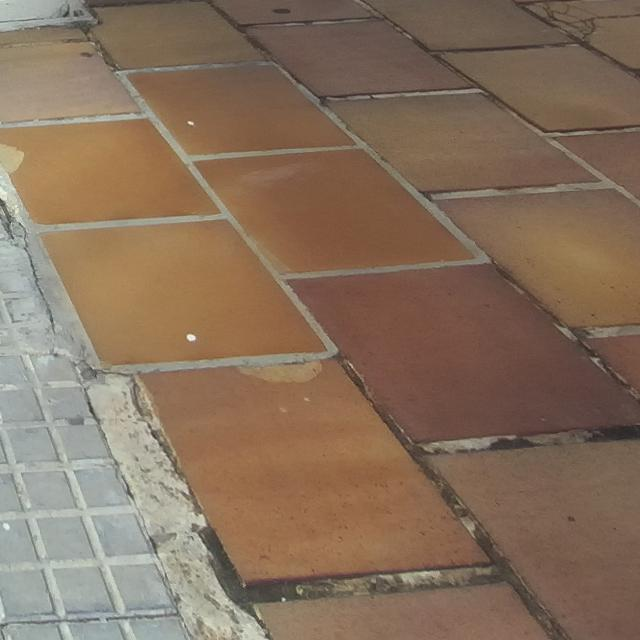calcada_quebrada: (507, 0, 640, 51)
